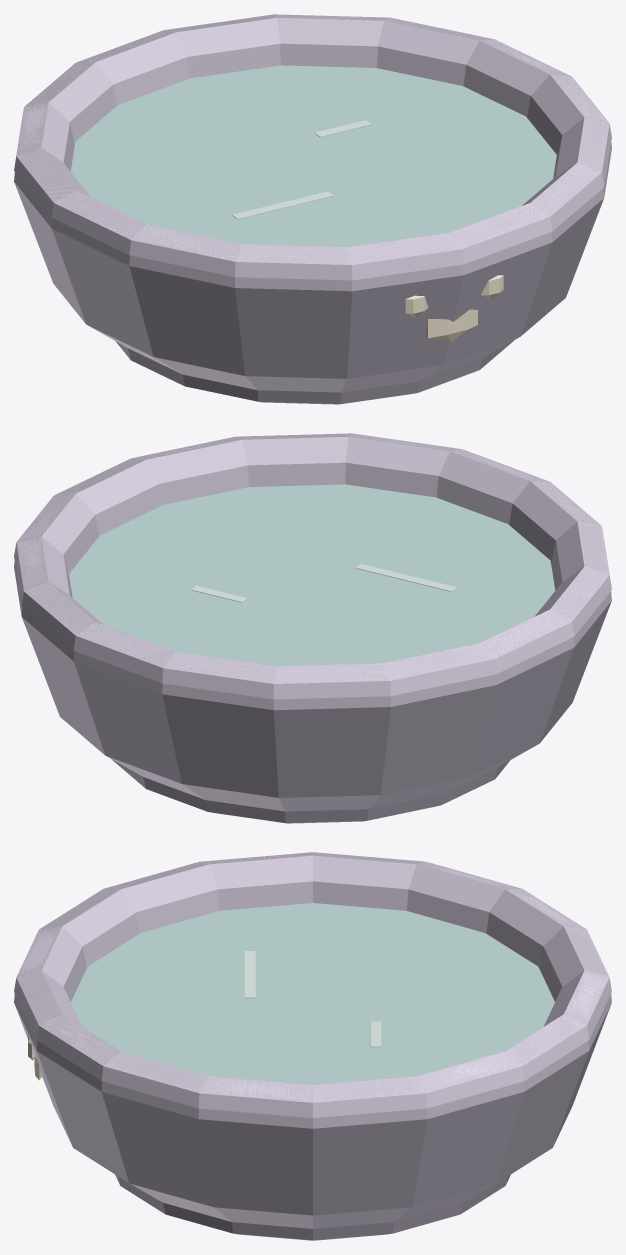
File: crafted-cat-water-2-2.glb
3 renders of one model, top to bottom at view 1: azimuth 30°, elevation 25°; view 2: azimuth 150°, elevation 25°; view 3: azimuth 270°, elevation 25°, orthographic.
Parts seen in each view (by area): view 1: ceramic-bowl, water-level, glazed-rim, foot-ring, paw-pad, water-glint; view 2: ceramic-bowl, water-level, glazed-rim, foot-ring, water-glint; view 3: ceramic-bowl, water-level, glazed-rim, foot-ring, water-glint.
Boxes of the visible parts, x1,y1,x2,y2 form: ceramic-bowl: (14, 14, 611, 392); water-level: (70, 65, 556, 247); glazed-rim: (14, 14, 611, 280); foot-ring: (116, 340, 514, 404); paw-pad: (426, 309, 477, 343); water-glint: (232, 191, 333, 219); ceramic-bowl: (14, 433, 611, 811); water-level: (69, 484, 555, 666); glazed-rim: (14, 433, 611, 699); foot-ring: (111, 759, 509, 823); water-glint: (356, 564, 457, 591); ceramic-bowl: (14, 852, 611, 1228); water-level: (71, 903, 554, 1084); glazed-rim: (14, 852, 611, 1117); foot-ring: (115, 1174, 510, 1240); water-glint: (244, 951, 255, 998).
Size of the model in its own units: 0.76 by 0.265 by 0.76.
